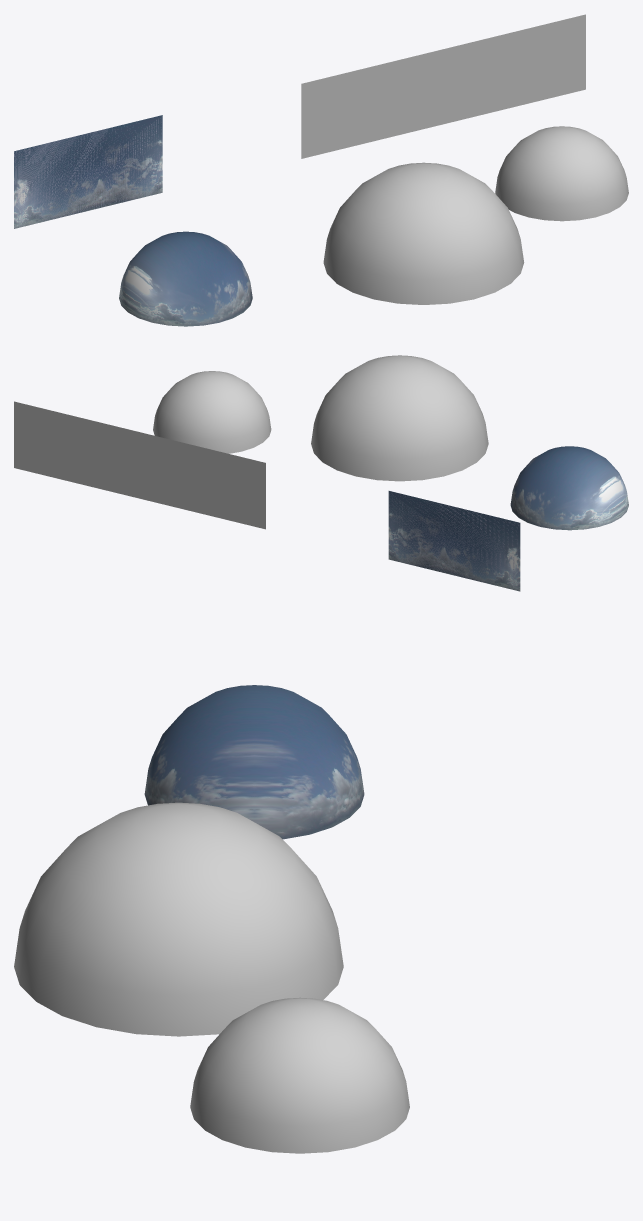
3 renders of one model, top to bottom at view 1: azimuth 30°, elevation 25°; view 2: azimuth 150°, elevation 25°; view 3: azimuth 270°, elevation 25°, orthographic. The views are drawn at different scales.
Parts seen in each view (by area): view 1: SketchUp (×5); view 2: SketchUp (×5); view 3: SketchUp (×3).
Part boxes in pixels (box(x1,y1,x2,y2)): SketchUp (×5): box(14, 14, 628, 326); SketchUp (×5): box(14, 355, 628, 591); SketchUp (×3): box(14, 685, 409, 1153).
Bounding box in the file's own units: 12921 × 7324 × 1964.
